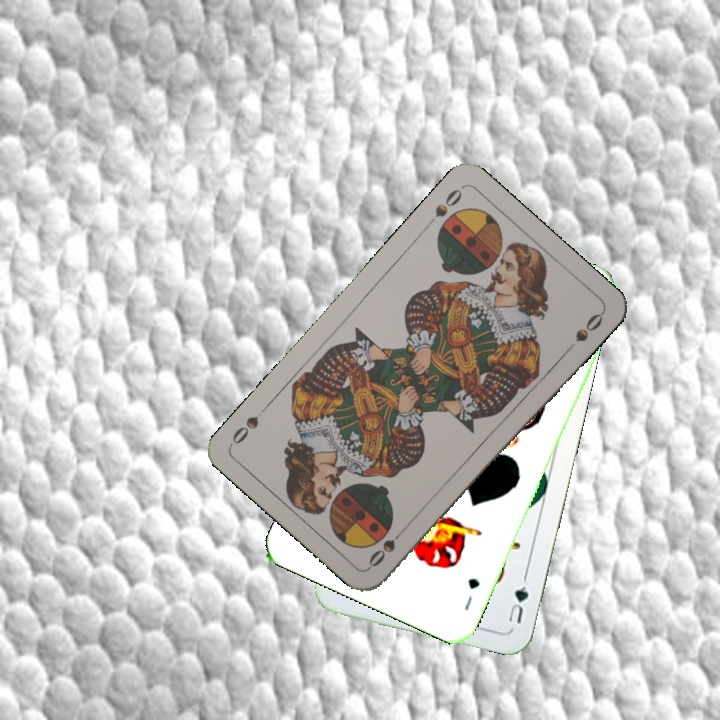GU: (504, 581, 531, 626), (460, 573, 483, 614)
SO: (364, 522, 409, 570), (430, 184, 465, 220)
